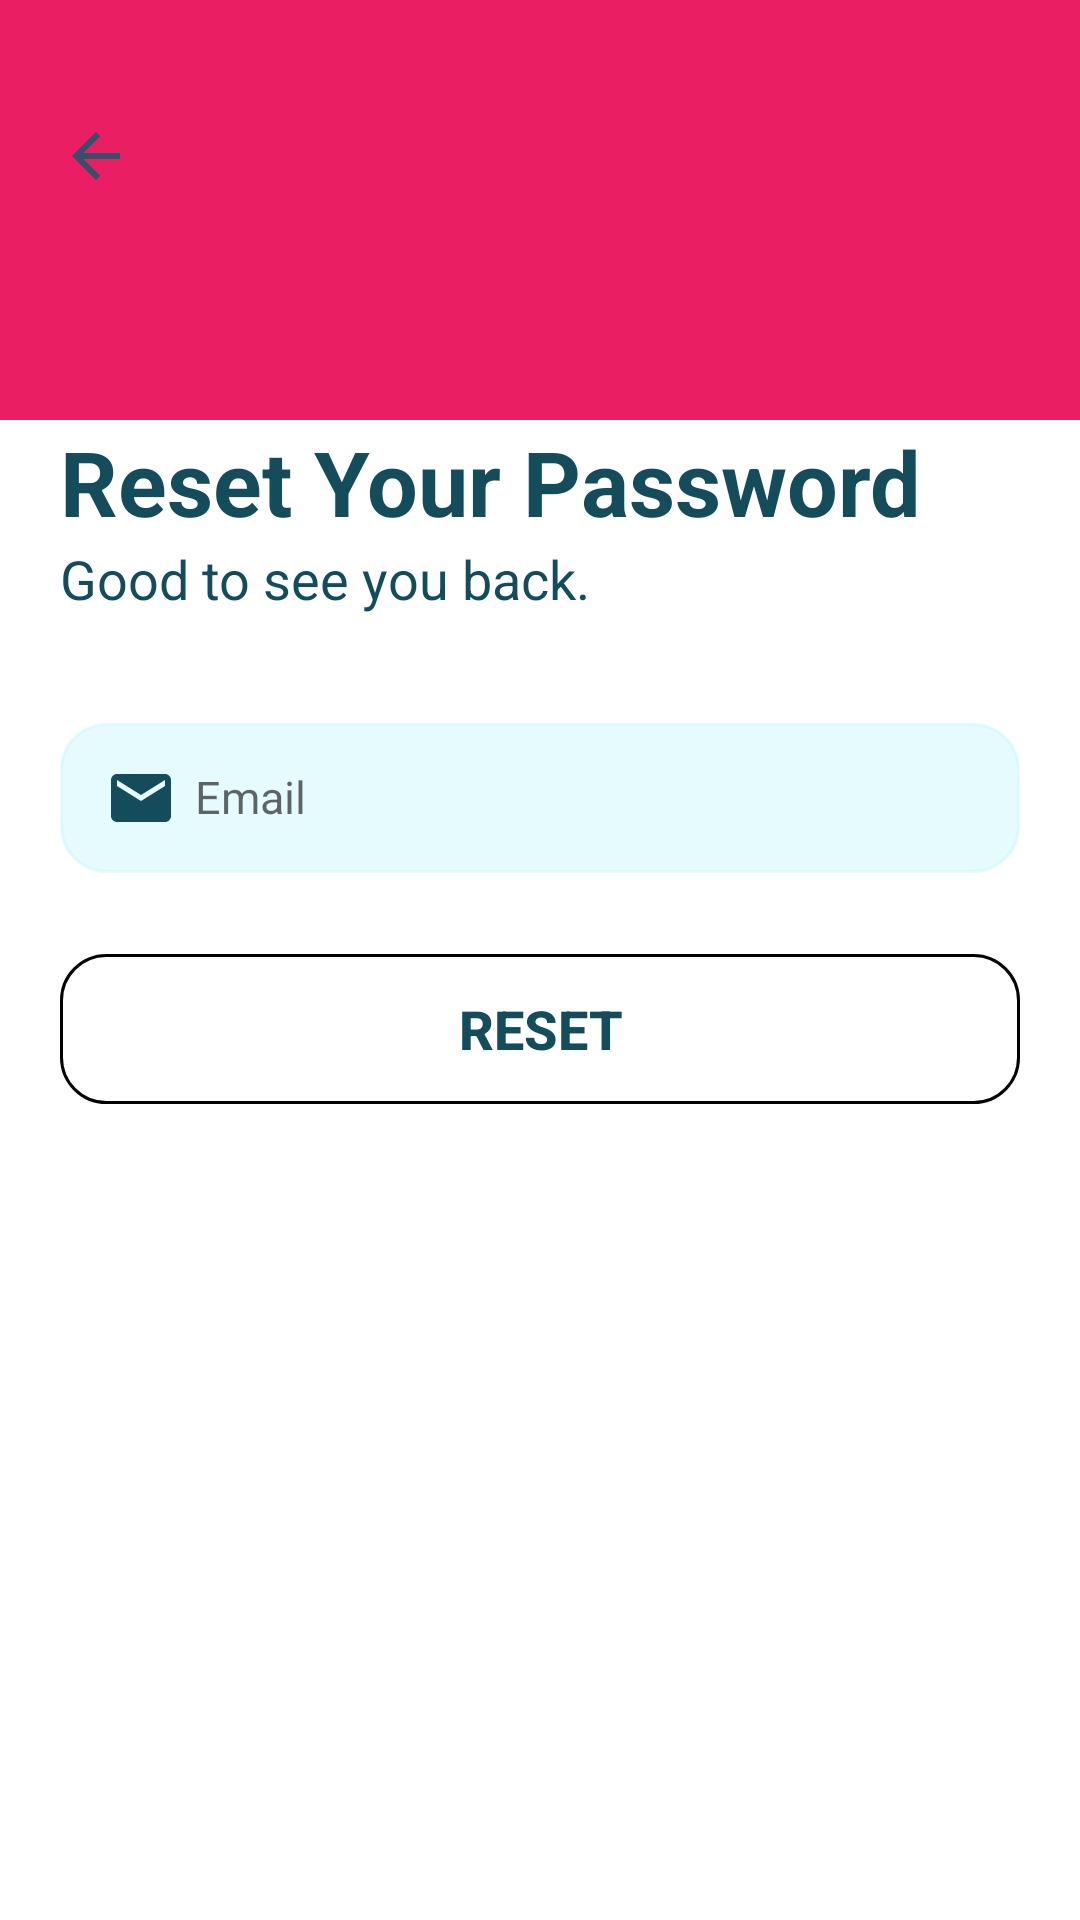

Named icons in this screenshot (1080 × 1920) and their centers, point (x, y):
arrow back: point (96, 156)
